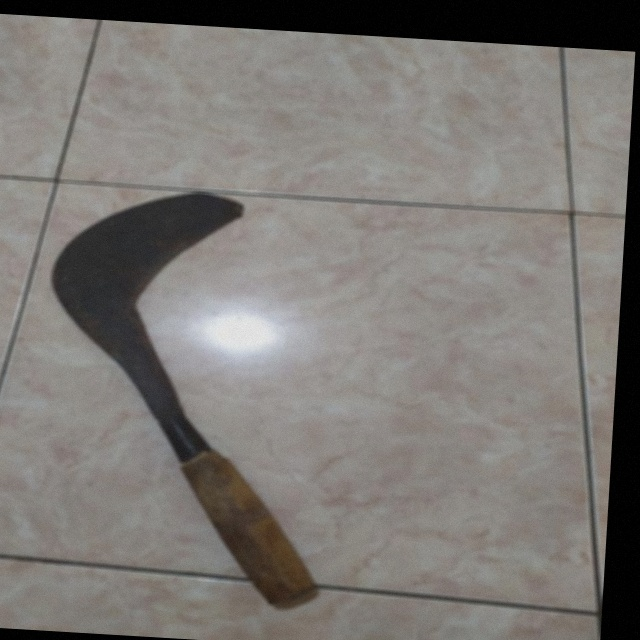Sharp-Object: (13, 173, 375, 628)
